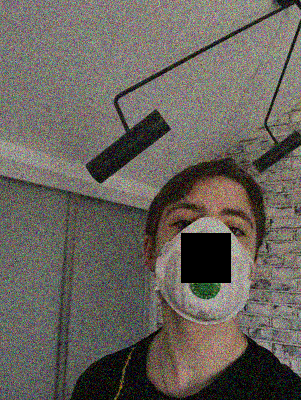with_mask: (154, 191, 255, 324)
